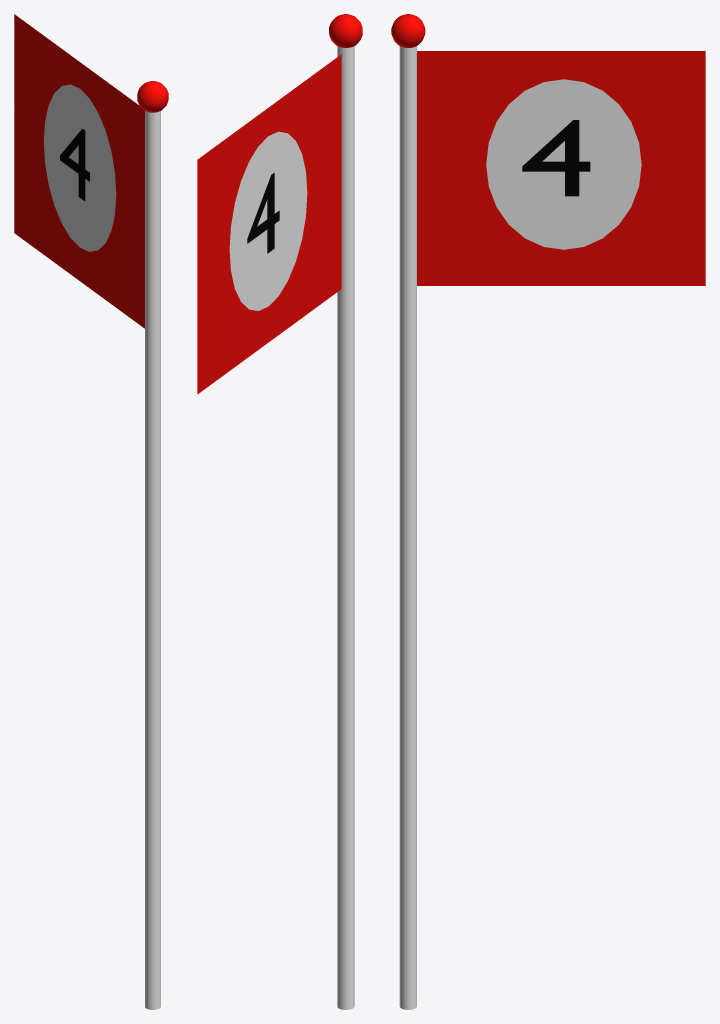
The model's file is flag4.fbx.
3 views of the same model, side by side, from view 1: azimuth 30°, elevation 25°; view 2: azimuth 150°, elevation 25°; view 3: azimuth 270°, elevation 25° (orthographic). The views are drawn at different scales.
Visible parts, largest first — view 1: Cube, Cylinder.003, Circle.003, 1.006, Sphere.003; view 2: Cube, Cylinder.003, Circle.003, 1.006, Sphere.003; view 3: Cube, Circle.003, Cylinder.003, 1.007, Sphere.003.
Boxes of the visible parts, <box> form: Cube: <box>14,14,144,328</box>; Cylinder.003: <box>145,111,160,1009</box>; Circle.003: <box>43,84,116,251</box>; 1.006: <box>60,128,89,200</box>; Sphere.003: <box>137,81,168,112</box>; Cube: <box>197,54,341,394</box>; Cylinder.003: <box>337,46,354,1009</box>; Circle.003: <box>229,131,307,310</box>; 1.006: <box>247,173,279,253</box>; Sphere.003: <box>329,14,362,47</box>; Cube: <box>417,51,705,285</box>; Circle.003: <box>486,79,641,249</box>; Cylinder.003: <box>399,46,416,1009</box>; 1.007: <box>522,120,590,196</box>; Sphere.003: <box>391,14,425,47</box>.
Bounding box in the file's own units: 3.94 × 127 × 36.37.
